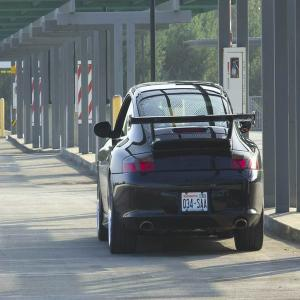Vehicle-registration-plate: (180, 199, 212, 221)
